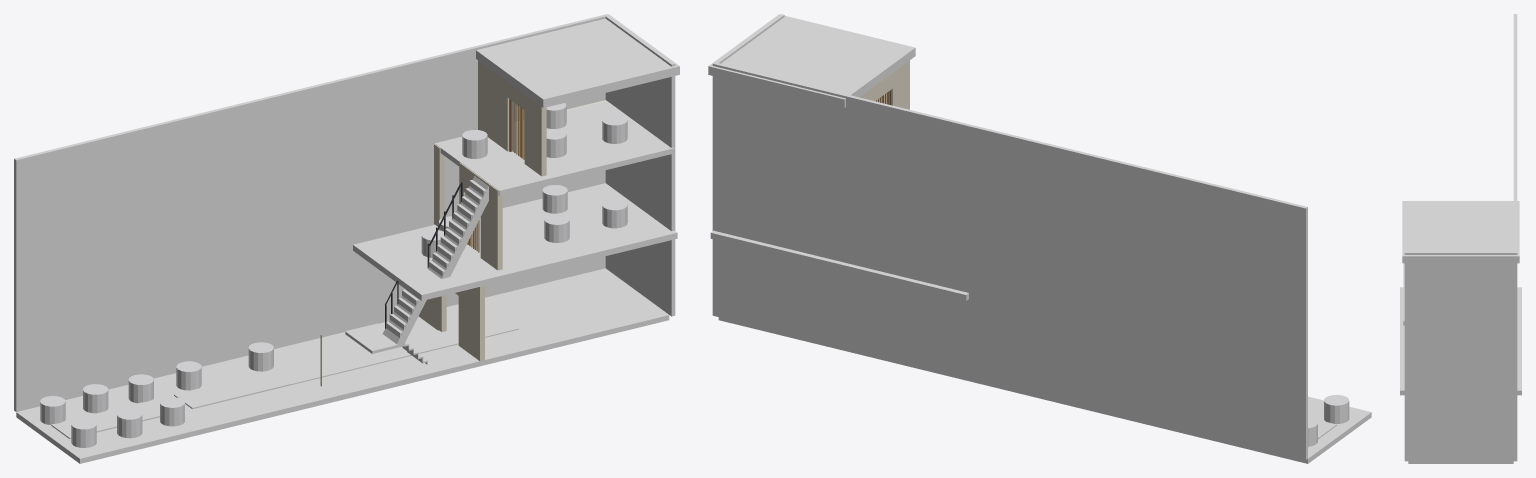
Rendered from floorplan.glb.
3 views of the same model, side by side, from view 1: azimuth 30°, elevation 25°; view 2: azimuth 150°, elevation 25°; view 3: azimuth 270°, elevation 25° (orthographic). The views are drawn at different scales.
Visible parts, largest first — view 1: Wall_right_brick, Wall_right_brick_ext2, Wall_right_brick_ext, Floor_F1, Floor_F2, Roof_F3, Wall_back, Floor_F3, Floor_F1_ext2, Floor_F1_ext, Path_brick, PartW3_b (+23 smaller); view 2: Wall_right_brick, Wall_right_brick_ext2, Wall_right_brick_ext, Roof_F3, Floor_F2, Floor_F1_ext2, Wall_back, Floor_F1, PartW3_a, BAN_B001; view 3: Wall_back, Roof_F3, Floor_F2, Wall_right_brick, Floor_F1, Wall_right_brick_ext2, Wall_right_brick_ext.
Boxes of the visible parts, left/top/right/bottom form: Wall_right_brick: left=235, top=15, right=605, bottom=357; Wall_right_brick_ext2: left=14, top=129, right=138, bottom=411; Wall_right_brick_ext: left=137, top=105, right=237, bottom=378; Floor_F1: left=237, top=268, right=669, bottom=409; Floor_F2: left=353, top=183, right=677, bottom=300; Roof_F3: left=476, top=14, right=679, bottom=107; Wall_back: left=604, top=14, right=675, bottom=316; Floor_F3: left=434, top=101, right=674, bottom=195; Floor_F1_ext2: left=16, top=385, right=202, bottom=463; Floor_F1_ext: left=154, top=358, right=300, bottom=433; Path_brick: left=273, top=315, right=518, bottom=384; PartW3_b: left=478, top=60, right=512, bottom=151; Wall_right_brick: left=716, top=63, right=1086, bottom=406; Wall_right_brick_ext2: left=1183, top=177, right=1307, bottom=460; Wall_right_brick_ext: left=1085, top=153, right=1184, bottom=430; Roof_F3: left=708, top=14, right=915, bottom=107; Floor_F2: left=710, top=230, right=968, bottom=300; Floor_F1_ext2: left=1185, top=396, right=1371, bottom=463; Wall_back: left=712, top=14, right=784, bottom=316; Floor_F1: left=718, top=317, right=1086, bottom=409; PartW3_a: left=891, top=60, right=909, bottom=109; BAN_B001: left=1324, top=395, right=1349, bottom=423; Wall_back: left=1404, top=251, right=1517, bottom=461; Roof_F3: left=1402, top=201, right=1519, bottom=263; Floor_F2: left=1400, top=287, right=1521, bottom=395; Wall_right_brick: left=1513, top=103, right=1517, bottom=251; Floor_F1: left=1408, top=461, right=1513, bottom=463; Wall_right_brick_ext2: left=1513, top=14, right=1517, bottom=63; Wall_right_brick_ext: left=1513, top=63, right=1517, bottom=102.
Bounding box in the file's own units: 24.28 × 10.07 × 5.21.
